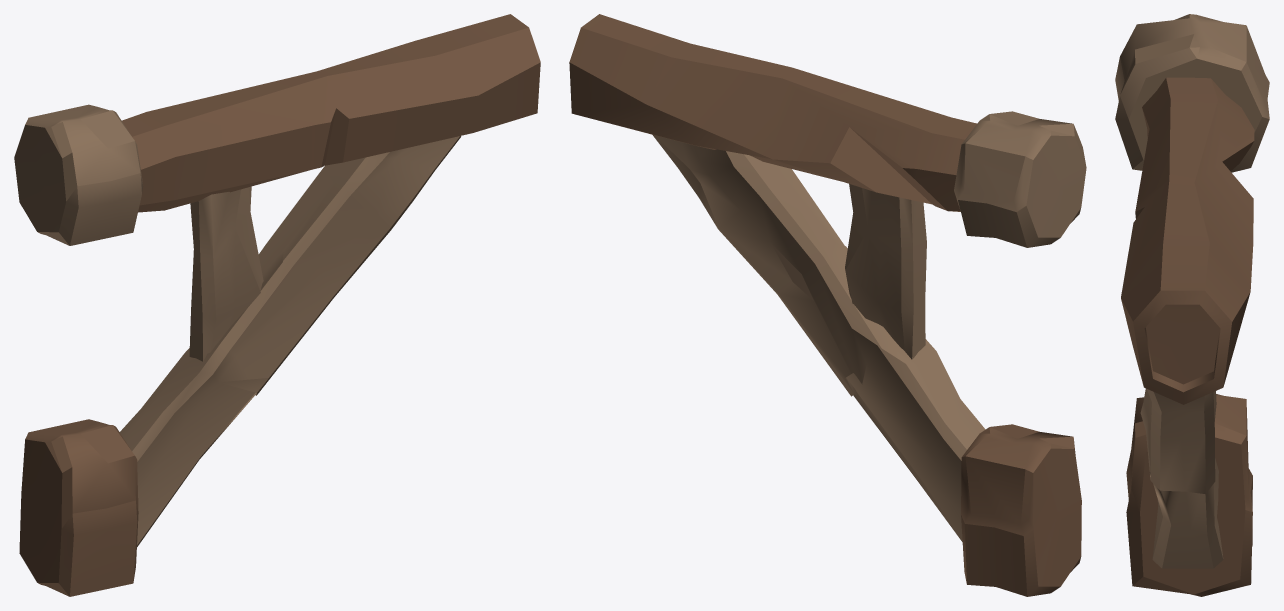
The model's file is woodsupport.fbx.
3 renders of one model, left to right at view 1: azimuth 30°, elevation 25°; view 2: azimuth 150°, elevation 25°; view 3: azimuth 270°, elevation 25°, orthographic. The views are drawn at different scales.
Visible parts, largest first — view 1: WoodenWall_03; view 2: WoodenWall_03; view 3: WoodenWall_03.
Boxes of the visible parts, left/top/right/bottom form: WoodenWall_03: left=14, top=14, right=540, bottom=596; WoodenWall_03: left=569, top=14, right=1086, bottom=596; WoodenWall_03: left=1115, top=14, right=1269, bottom=596.
Bounding box in the file's own units: 1.04 × 0.9547 × 0.2423.
